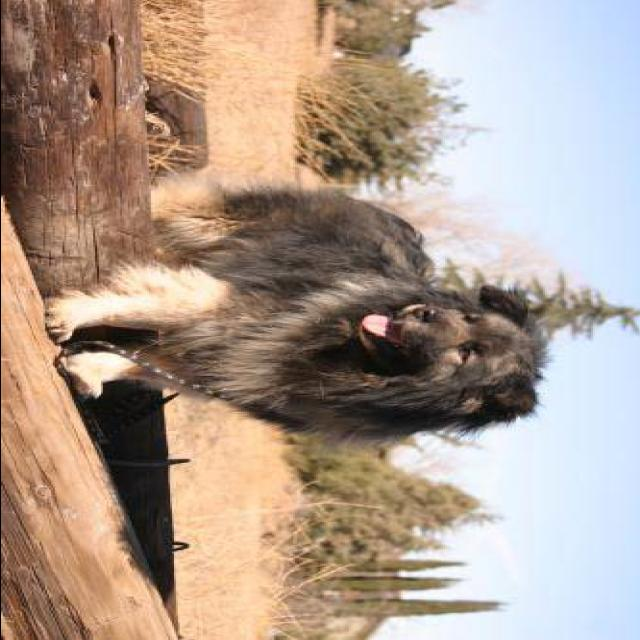dog: (48, 165, 570, 457)
